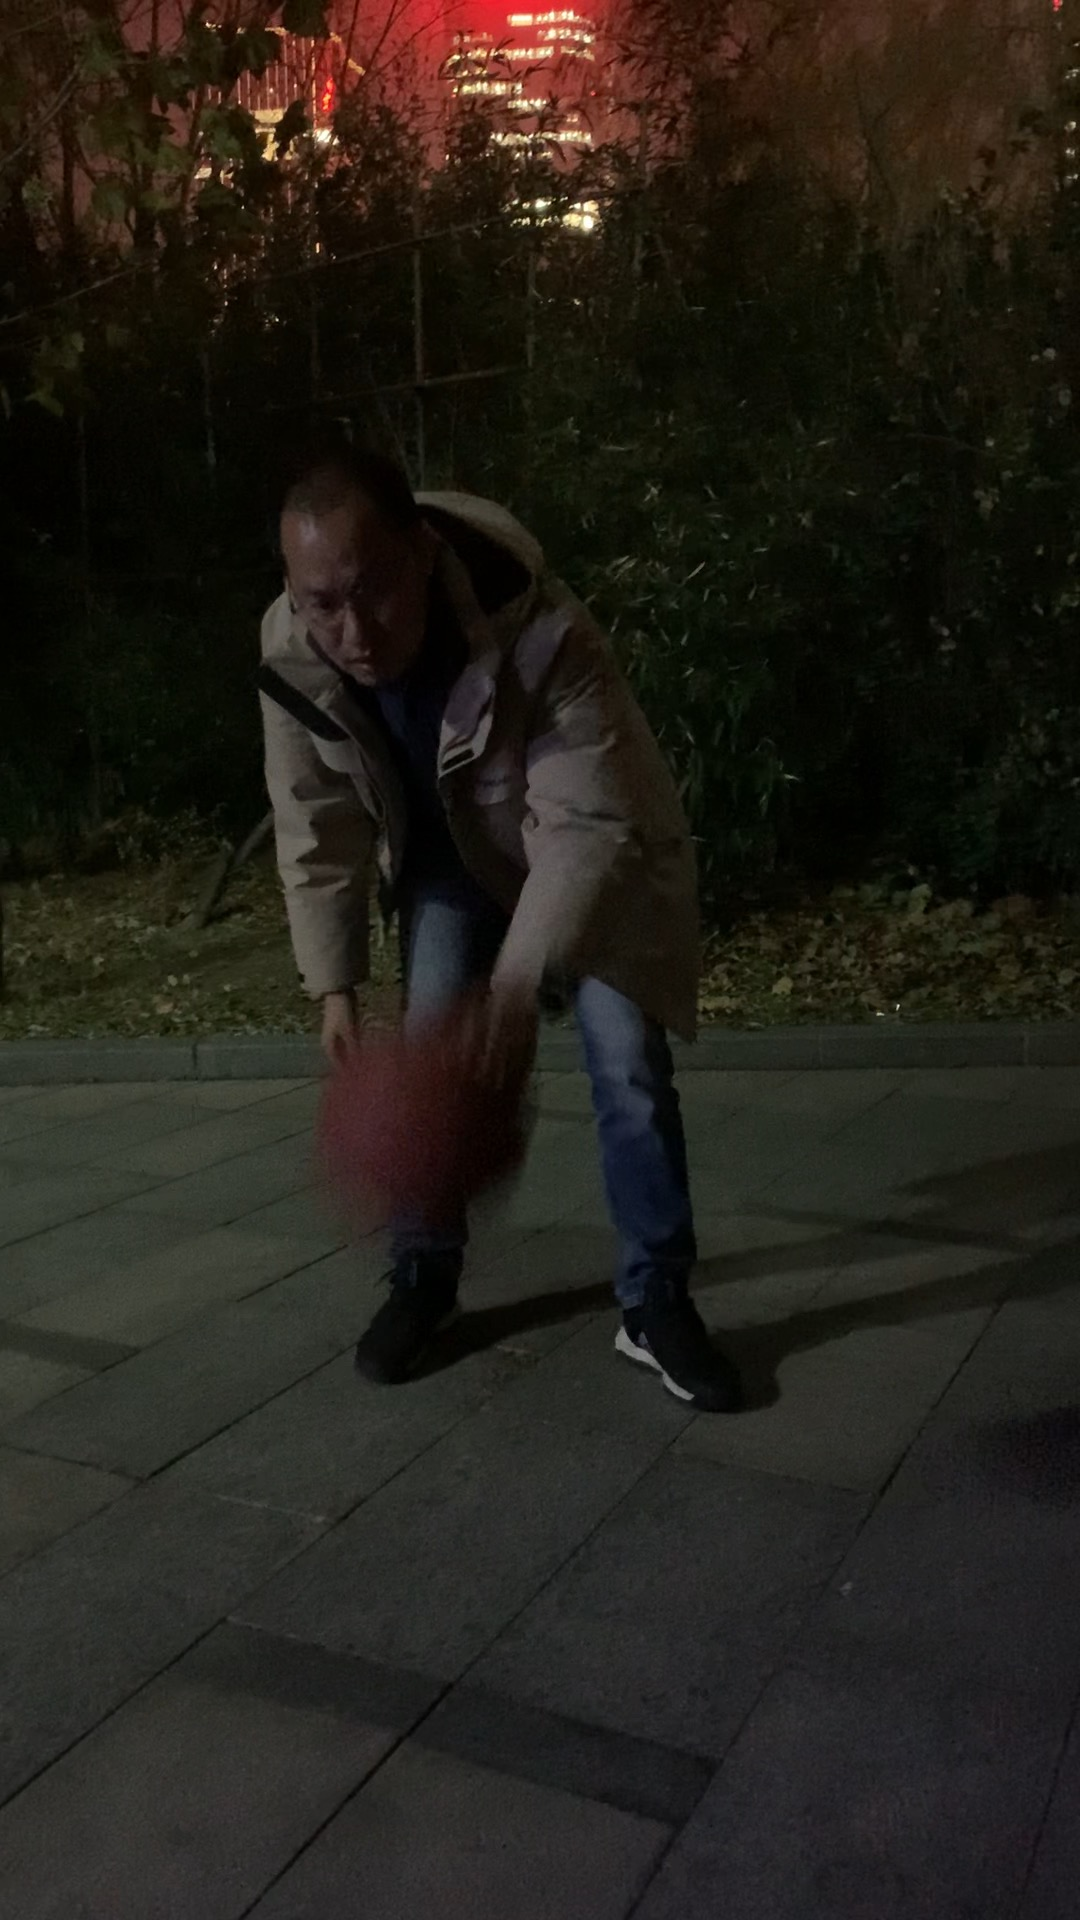ball: (315, 1031, 534, 1236)
